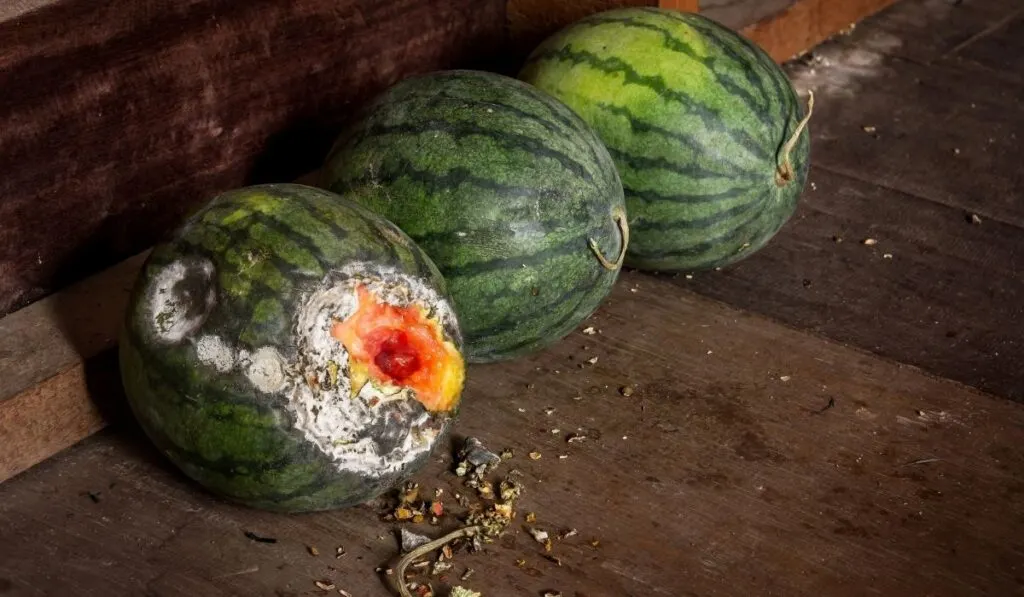rotten: (275, 263, 464, 476), (131, 257, 203, 343), (237, 341, 292, 395), (191, 332, 233, 375)
watermelon: (126, 185, 467, 514)
